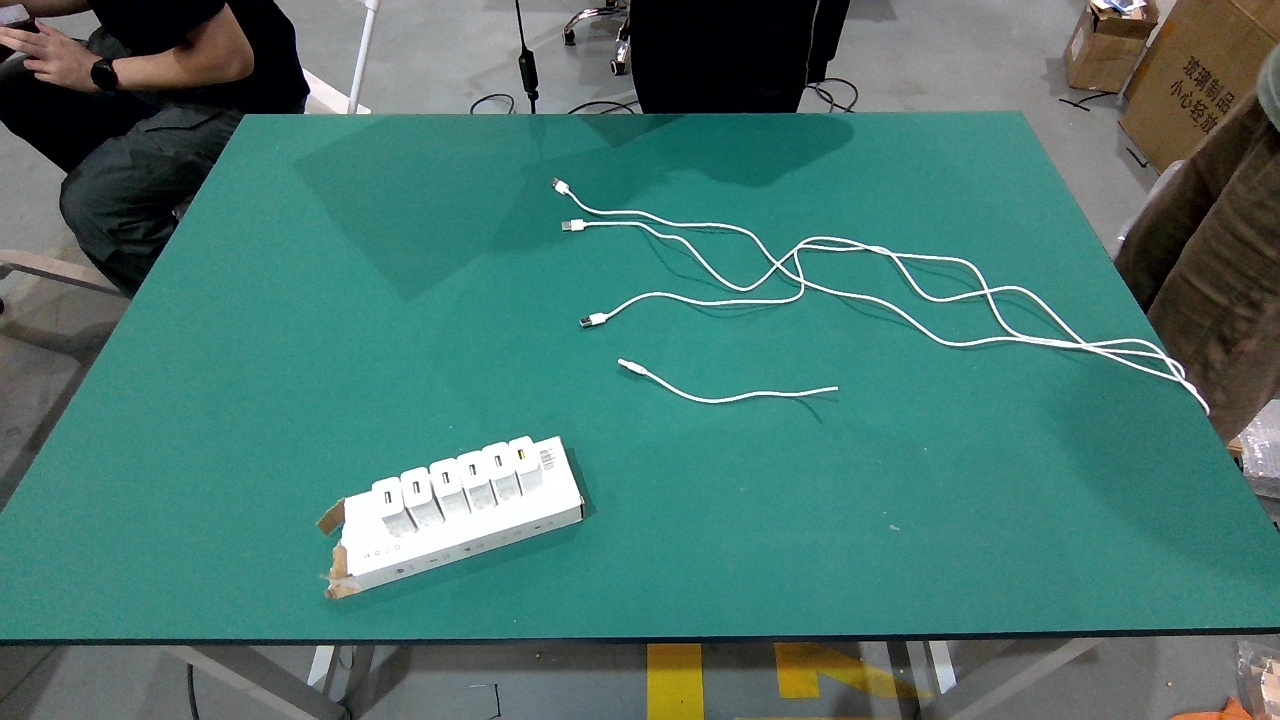usb_a_plug: (615, 355, 654, 379), (545, 173, 576, 200), (578, 309, 616, 328), (560, 219, 591, 231)
